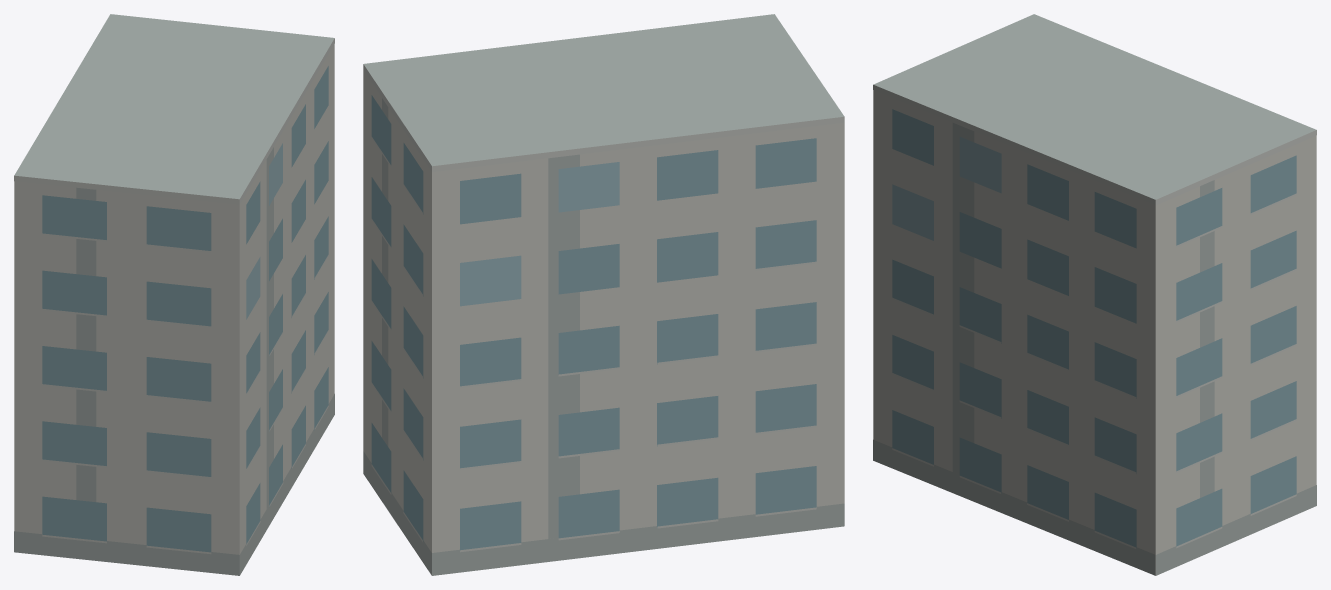
File: survey-upis-32884187.glb
3 renders of one model, left to right at view 1: azimuth 30°, elevation 25°; view 2: azimuth 150°, elevation 25°; view 3: azimuth 270°, elevation 25°, orthographic. The views are drawn at different scales.
Visible parts, largest first — view 1: survey-upis-32884187.tmp; view 2: survey-upis-32884187.tmp; view 3: survey-upis-32884187.tmp.
Boxes of the visible parts, <box> form: survey-upis-32884187.tmp: <box>14,14,334,575</box>; survey-upis-32884187.tmp: <box>363,14,844,575</box>; survey-upis-32884187.tmp: <box>873,14,1316,575</box>.
Size of the model in its own units: 17.5 by 16.5 by 17.65.
